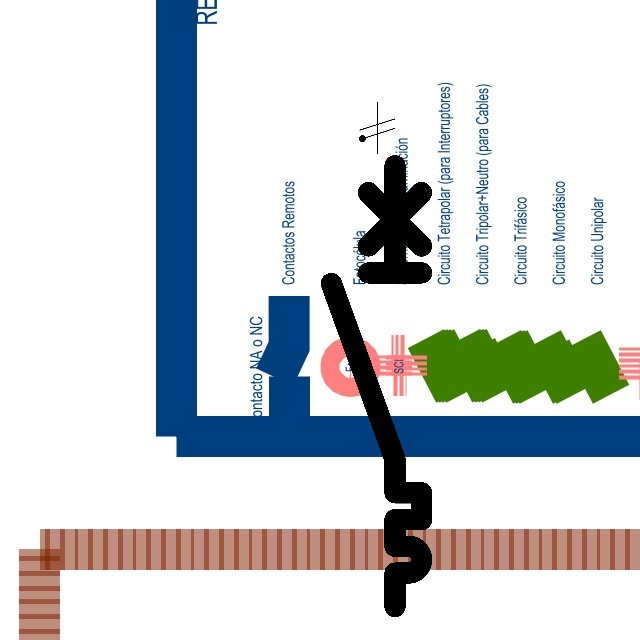interruptor_termomagnetico: (320, 154, 433, 617)
